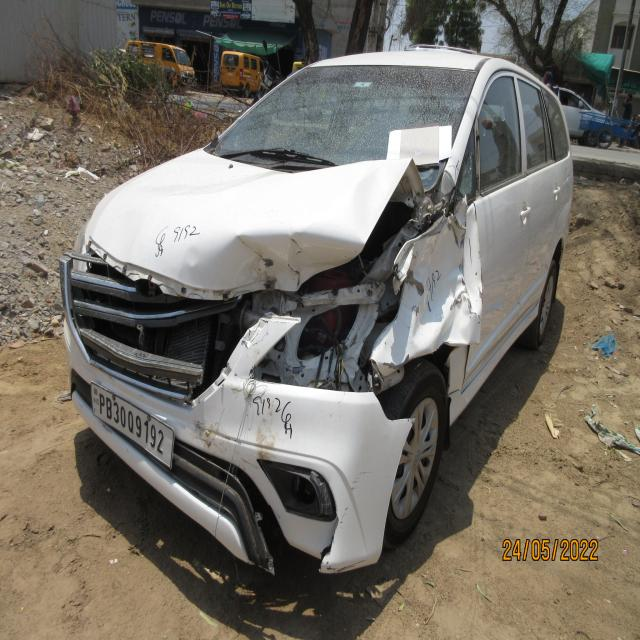damage: (78, 154, 425, 296), (64, 238, 253, 405), (369, 202, 486, 388), (176, 408, 282, 575), (226, 304, 295, 377), (317, 505, 357, 579), (338, 464, 380, 522), (454, 148, 476, 203), (473, 119, 485, 196)
